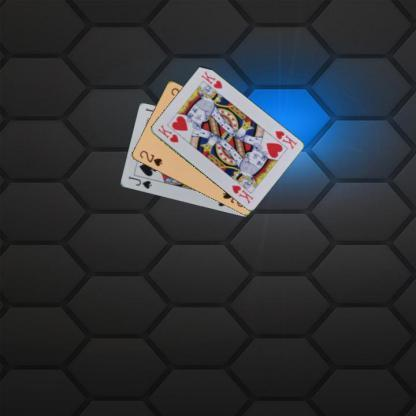2s: (137, 147, 163, 168)
Js: (126, 173, 152, 190)
Kh: (272, 127, 298, 150), (155, 122, 180, 144)
